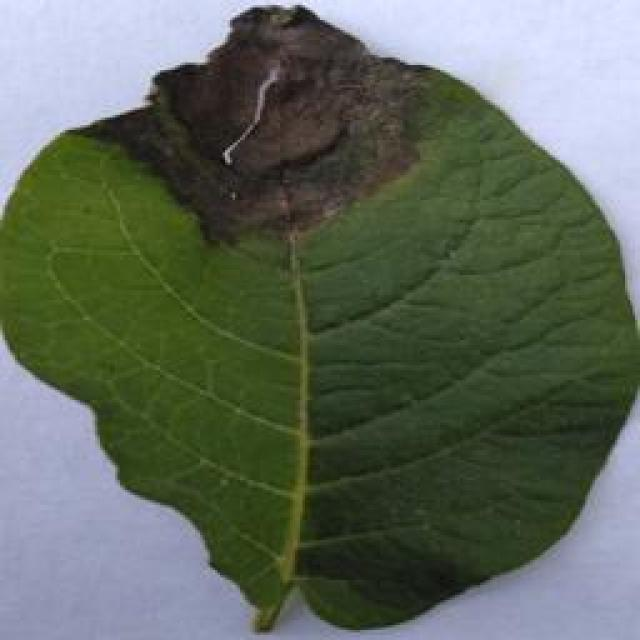Potato_Late_Blight: (4, 12, 631, 634)
